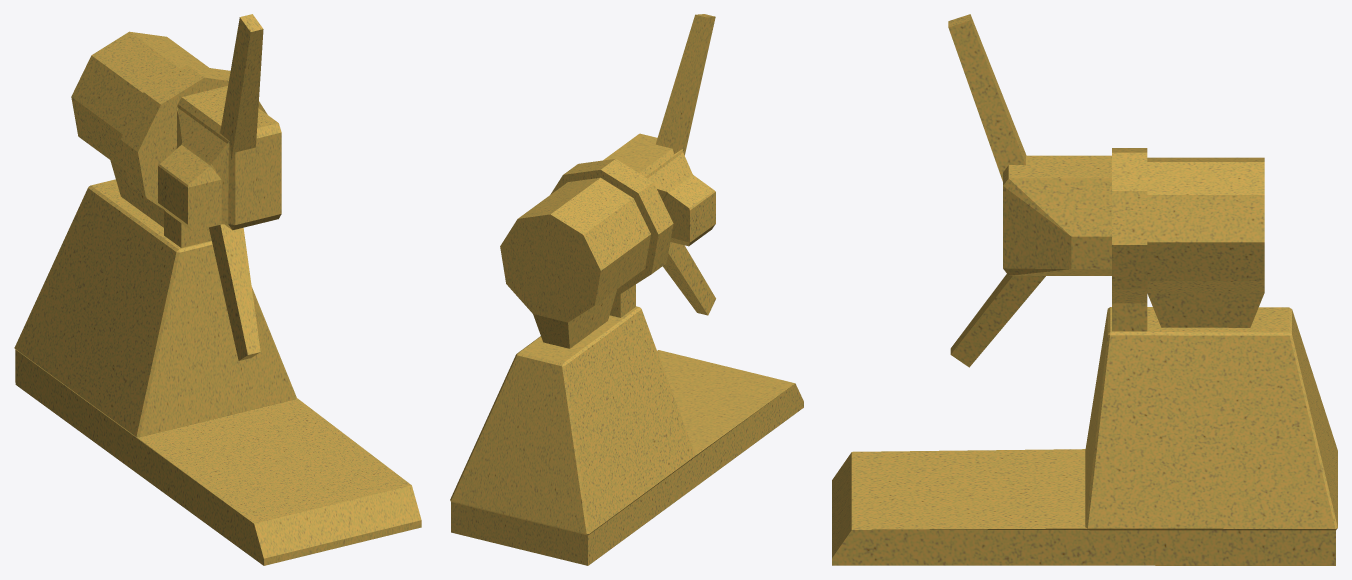
Rendered from FilmProjectorBaseBase.glb.
3 renders of one model, left to right at view 1: azimuth 30°, elevation 25°; view 2: azimuth 150°, elevation 25°; view 3: azimuth 270°, elevation 25°, orthographic. The views are drawn at different scales.
Visible parts, largest first — view 1: Cube.001; view 2: Cube.001; view 3: Cube.001.
Part boxes in pixels (x1=…): Cube.001: x1=14, y1=14, x2=421, y2=565; Cube.001: x1=450, y1=14, x2=803, y2=565; Cube.001: x1=832, y1=14, x2=1337, y2=565.
Size of the model in its own units: 0.9574 by 2.78 by 2.58.
Materials: 1 (1 with a texture image).
